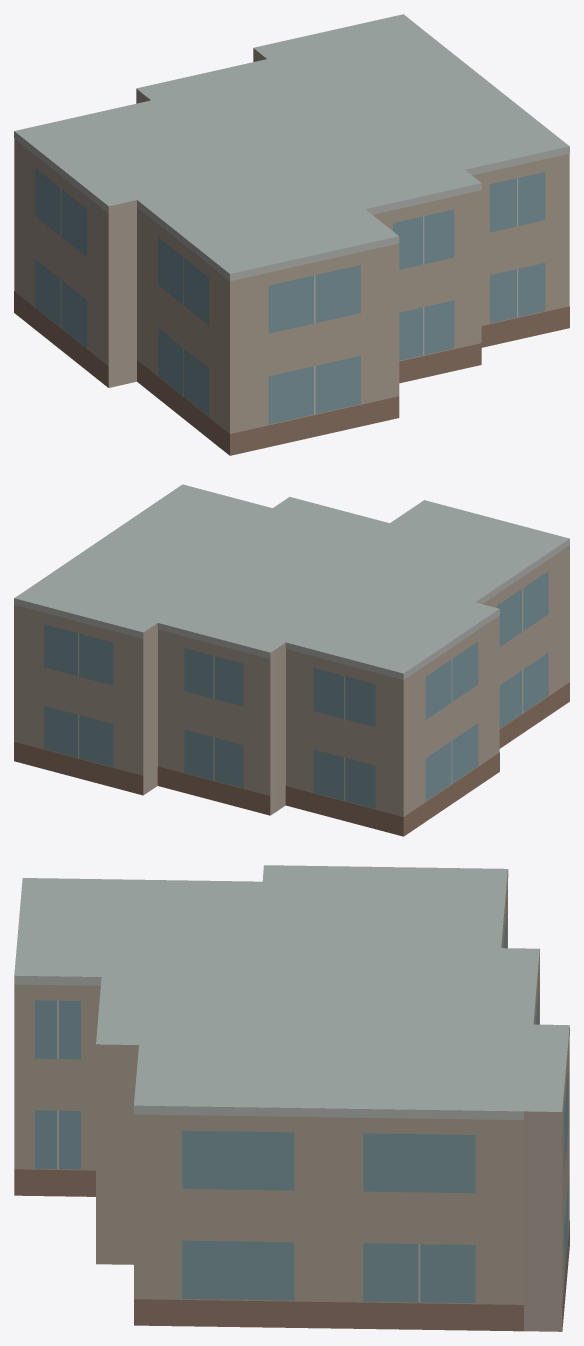
Rendered from survey-upis-32836730.glb.
3 views of the same model, one above another, from view 1: azimuth 30°, elevation 25°; view 2: azimuth 150°, elevation 25°; view 3: azimuth 270°, elevation 25° (orthographic). The views are drawn at different scales.
Visible parts, largest first — view 1: survey-upis-32836730.tmp; view 2: survey-upis-32836730.tmp; view 3: survey-upis-32836730.tmp.
Boxes of the visible parts, x1,y1,x2,y2 form: survey-upis-32836730.tmp: [14, 14, 569, 455]; survey-upis-32836730.tmp: [14, 484, 569, 836]; survey-upis-32836730.tmp: [14, 865, 569, 1331].
Size of the model in its own units: 14.7 by 6.1 by 13.98.
